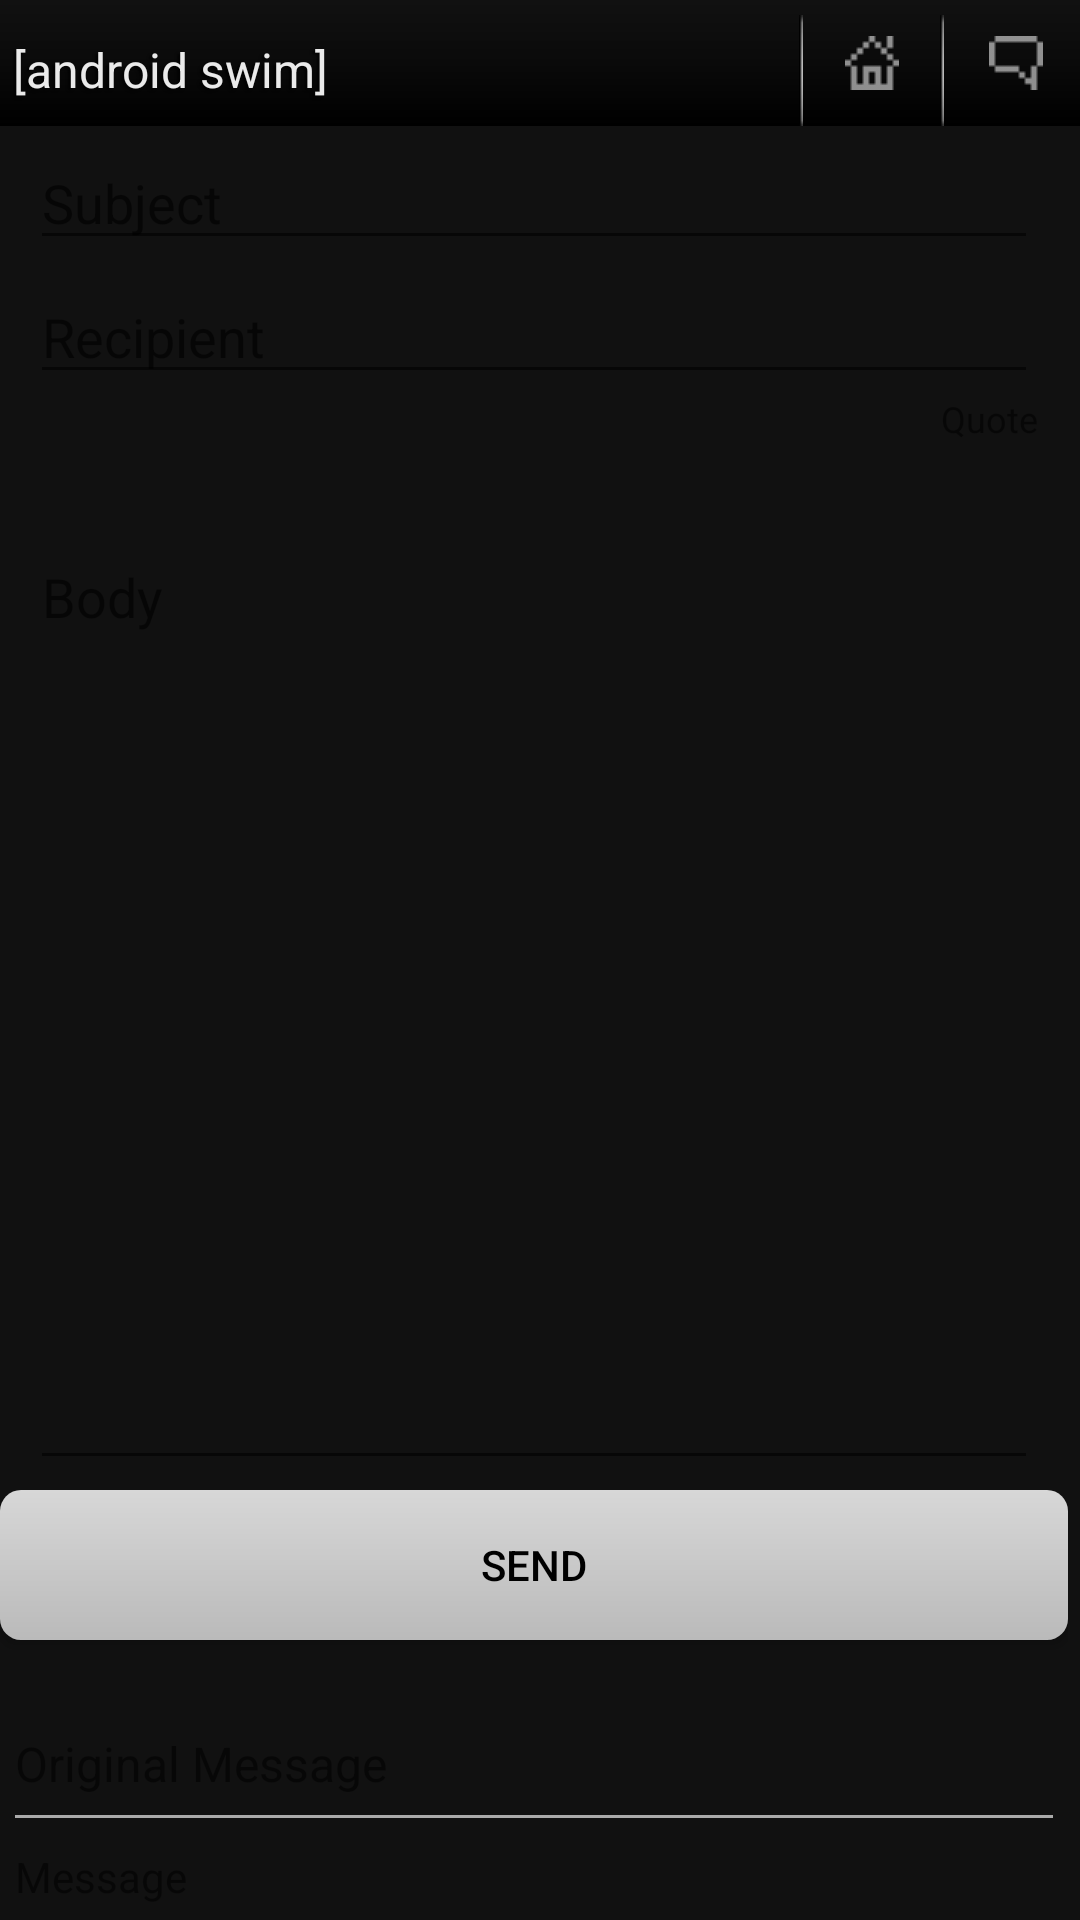

Where icons sit on this 1080 × 1920 app screen, as (x1, y1, x2, y2):
homepixel: (845, 36, 899, 90)
messagepixel: (989, 36, 1043, 90)
